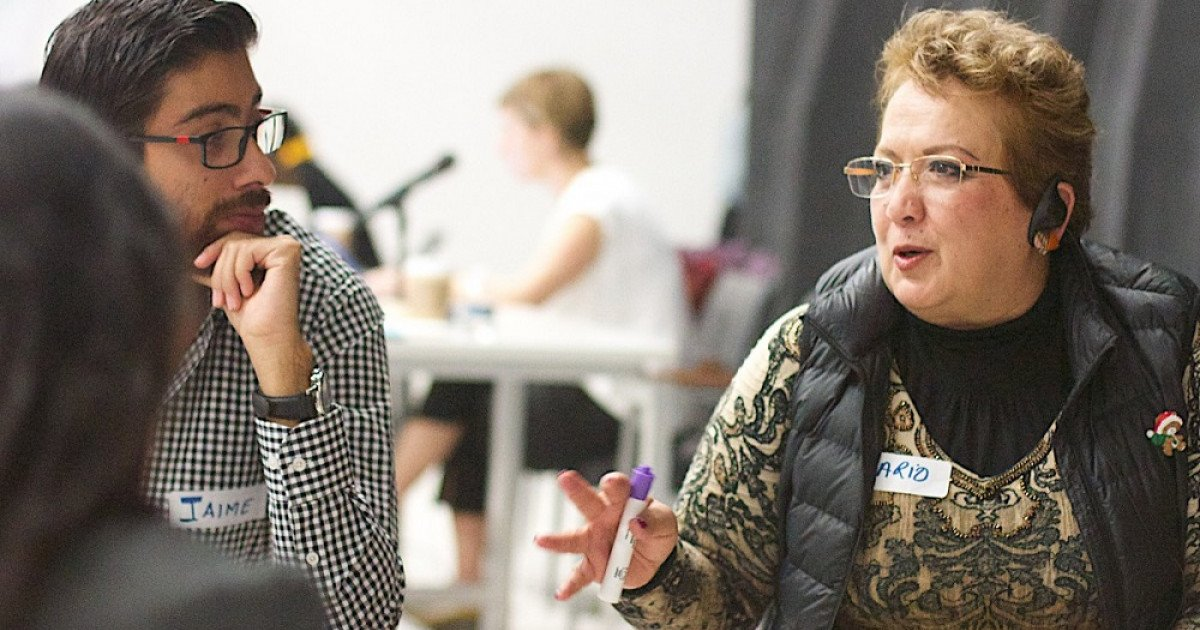person: (774, 27, 1161, 520), (40, 8, 381, 449)
